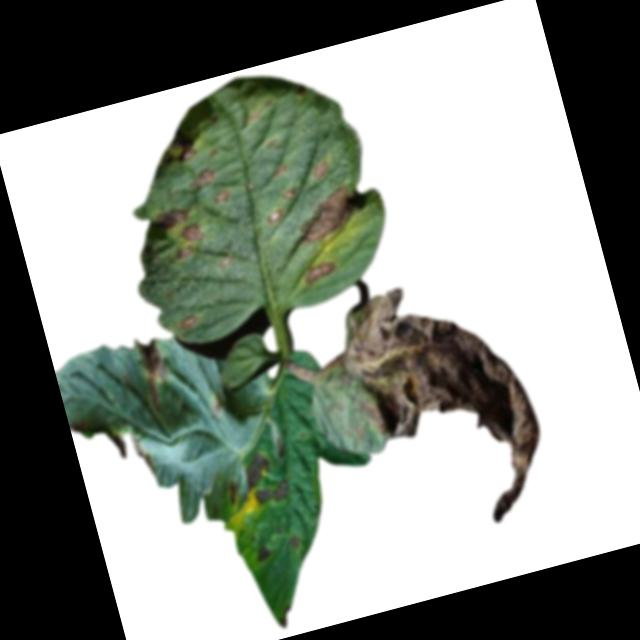Early_blight: (323, 263, 566, 556), (295, 187, 367, 244), (132, 335, 182, 415), (154, 205, 208, 268), (126, 426, 159, 483), (235, 448, 272, 490), (251, 477, 296, 507), (301, 259, 341, 287), (189, 164, 223, 192), (211, 185, 237, 208), (177, 140, 201, 163), (254, 544, 274, 566), (176, 311, 199, 330), (265, 206, 286, 226), (286, 532, 306, 552), (313, 159, 333, 179), (281, 186, 299, 200), (277, 165, 291, 178)
